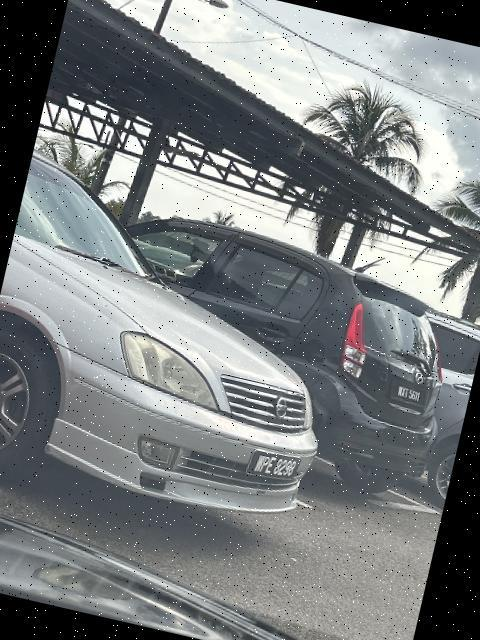License_Plate: (244, 442, 305, 491), (387, 375, 431, 413)
WPE8298: (244, 442, 305, 491)
WXT5671: (387, 375, 431, 413)
car: (1, 143, 373, 553), (73, 197, 476, 515)
